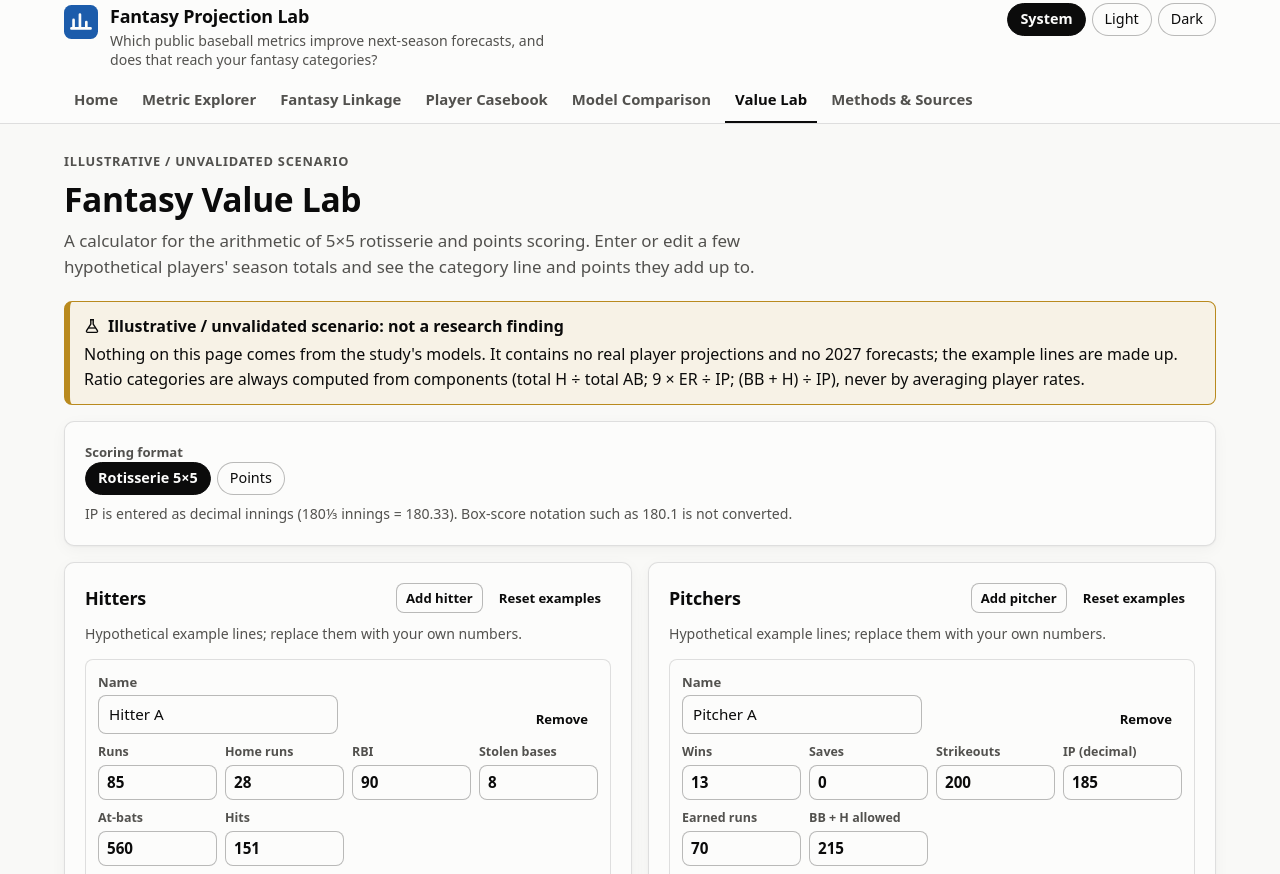
Scenario: Fantasy Value Lab › points mode uses the verified weights from scoring.json when present
Check: the text "Illustrative / unvalidated scenario: not a research finding" is shown, box [84,315,564,337]
Click the radio button labelled "Points" at coordinates (251, 479), box [217,462,285,495]
(page scrolled)
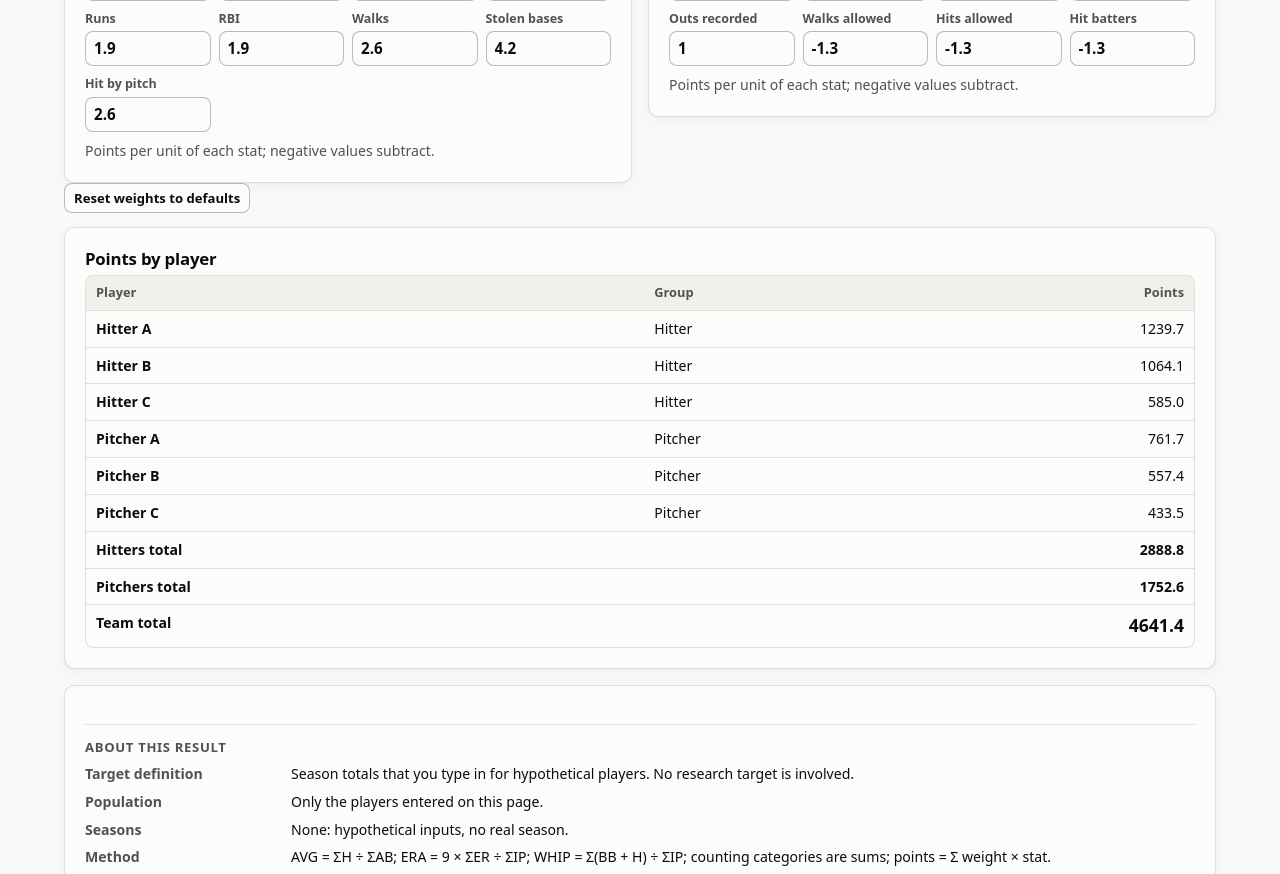
Check: the row "Hitter A Hitter 1239.7" is shown, box [86,311,1194,347]
Check: the row "Pitcher A Pitcher 761.7" is shown, box [86,421,1194,458]
